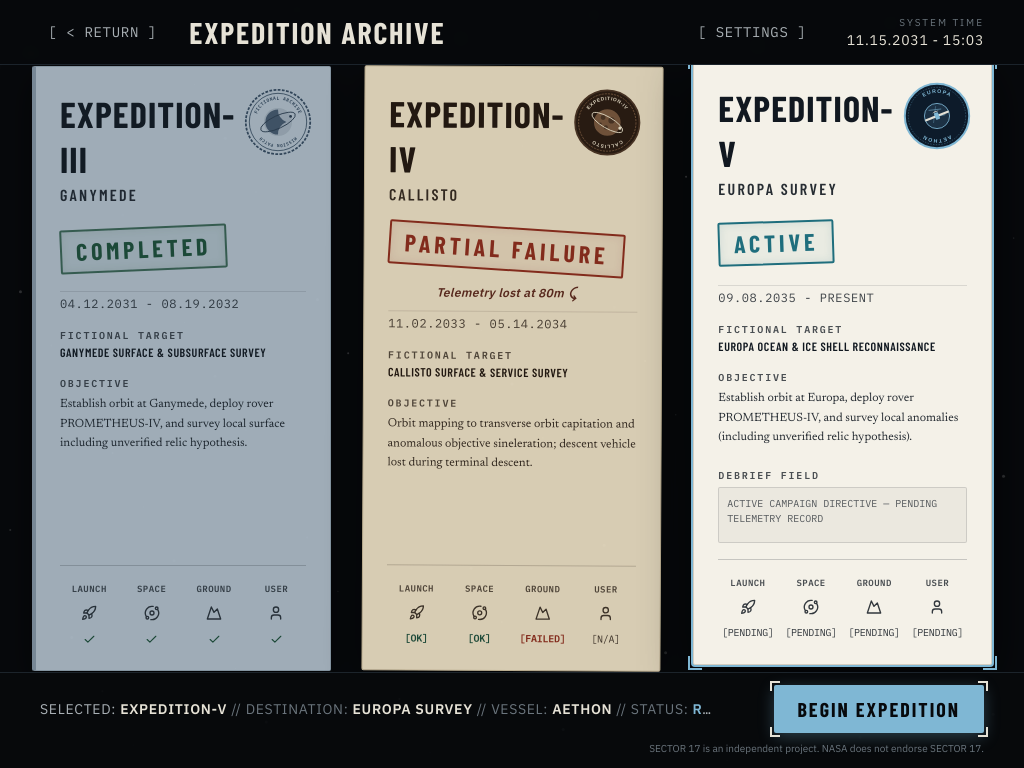
Test: Phase 7.3.2: Mission Selection — Expedition Archive › opens and closes the Settings modal
Click the button "[ SETTINGS ]".
click(752, 32)  # box [690,18,815,46]
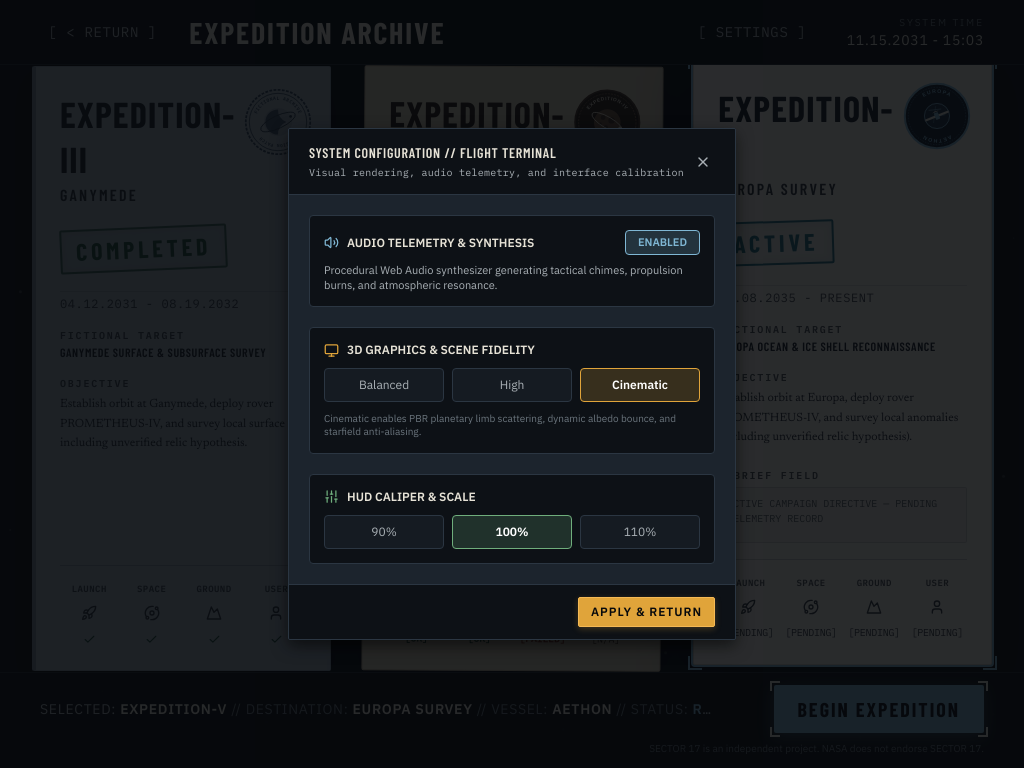
Result: the heading "SYSTEM CONFIGURATION // FLIGHT TERMINAL" is shown at [309,144,556,161]
Click the button "Apply & Return".
click(647, 612)  # box [578,597,715,627]
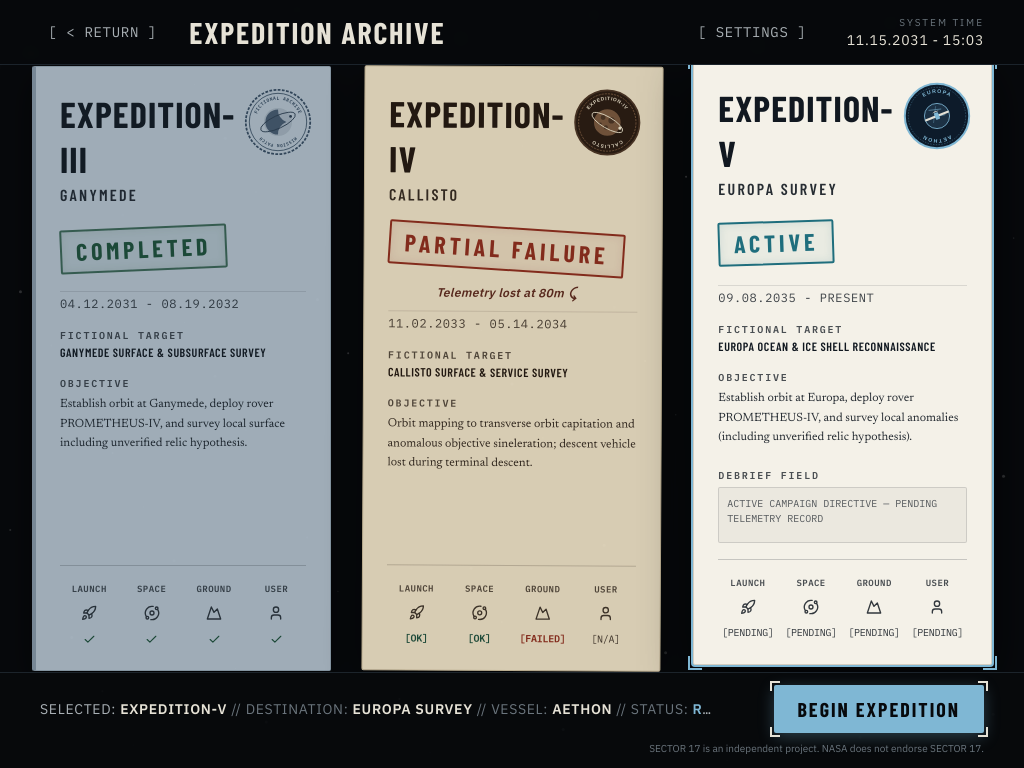
Result: the heading "SYSTEM CONFIGURATION // FLIGHT TERMINAL" is gone
